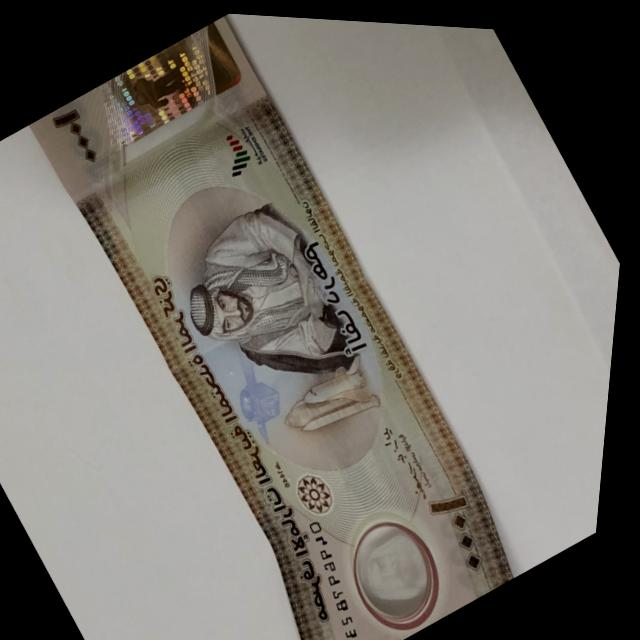1000_AED: (25, 13, 515, 640)
